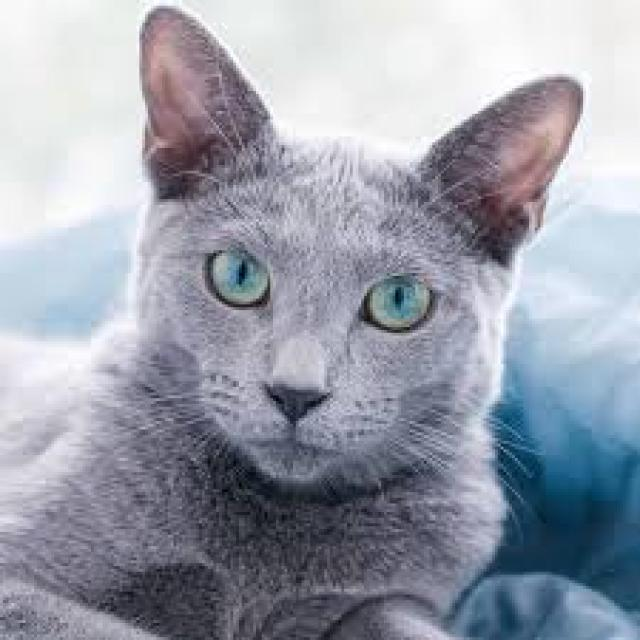Cat: (0, 5, 586, 640)
